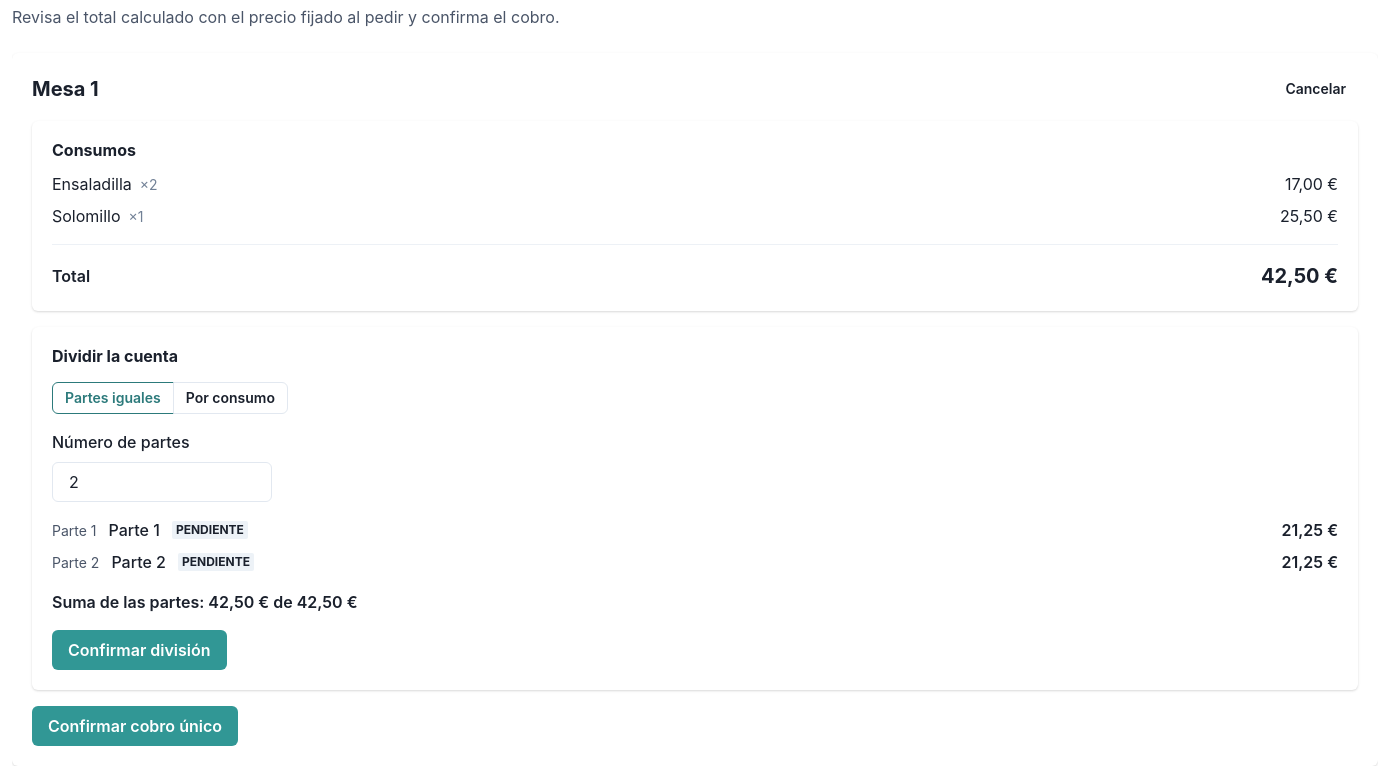
Test: CierreCuenta (US2) › recarga la cuenta si el cobro único detecta un total desactualizado
(page scrolled)
Click the button "Confirmar cobro único": [135, 726] box 32,706 -> 238,746
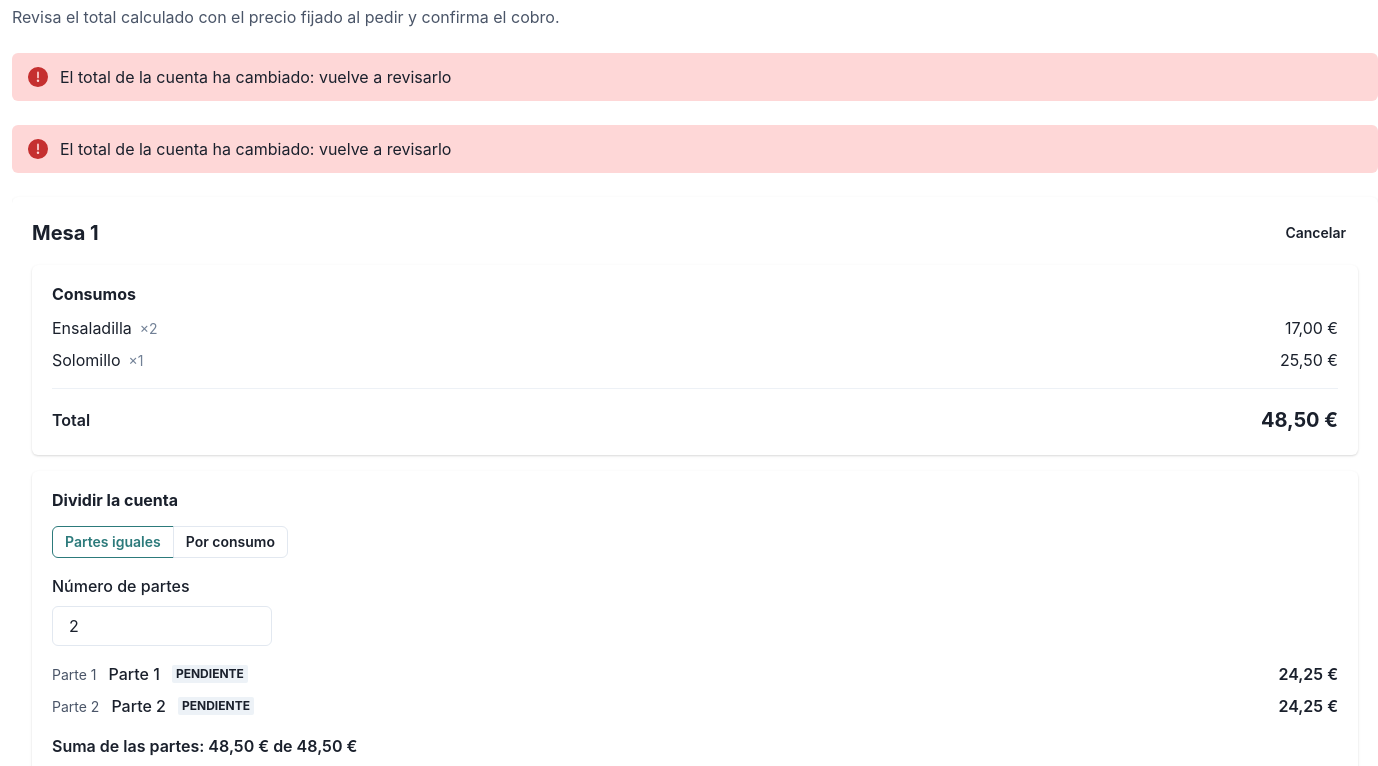
Result: the 1st text "El total de la cuenta ha cambiado: vuelve a revisarlo" is shown at 60,65 -> 451,89
Result: the text "48,50 €" is shown at 1261,405 -> 1338,435
